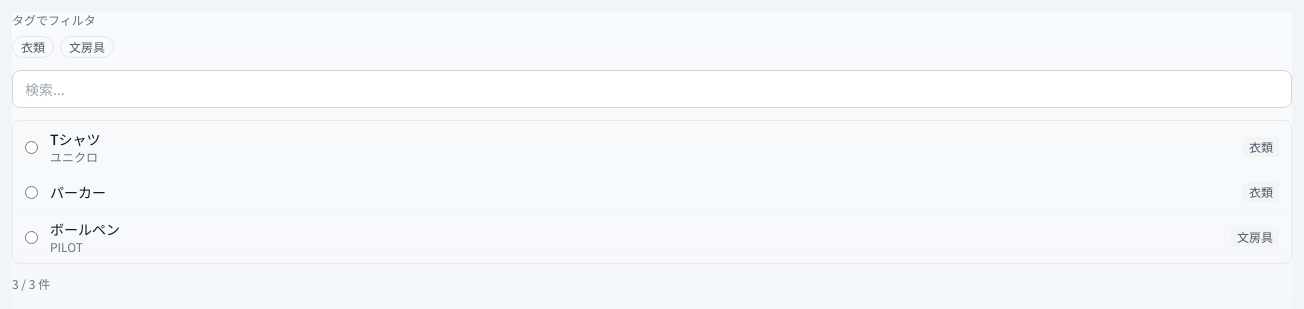
Test: ItemTypeSelector › should clear filters when clicking clear button
Note:  タグでフィルタ
Click the button "衣類".
click(33, 47)  # box 12,36 -> 54,58
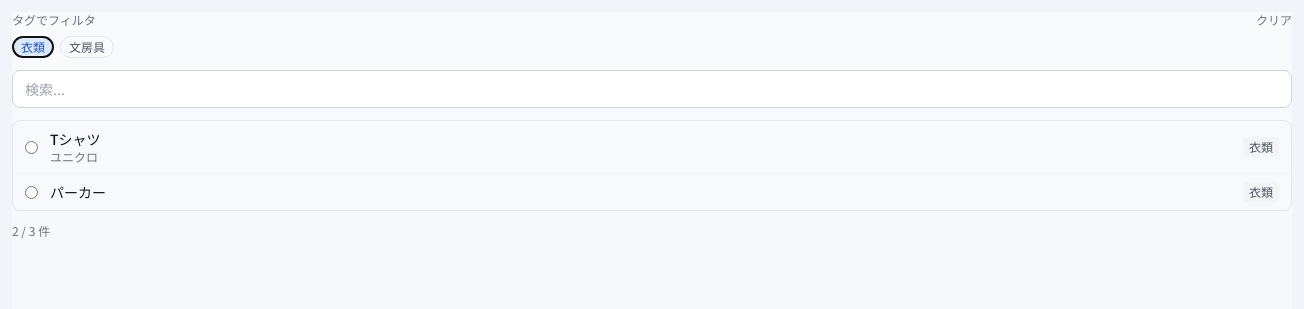
Result: the text "2 / 3 件" is shown at 12,222 -> 50,239
Note: クリアボタンをクリック
Click the button "クリア".
click(1274, 20)  # box 1256,12 -> 1292,28
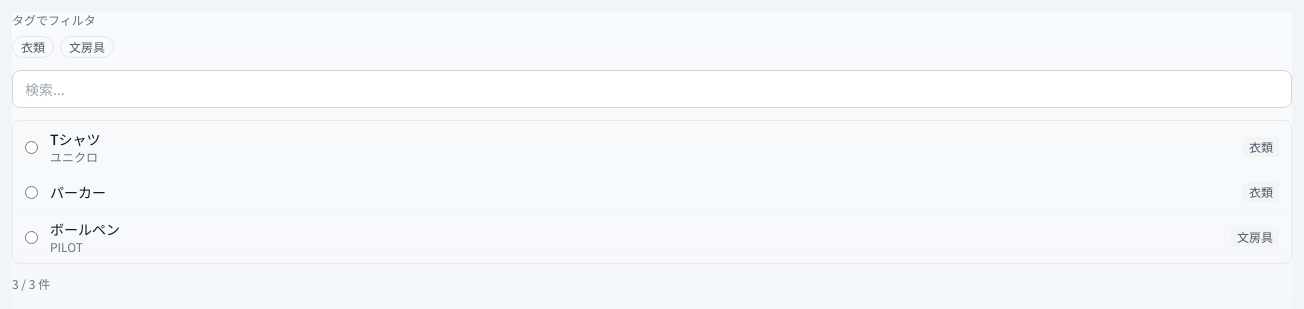
Result: the text "3 / 3 件" is shown at 12,275 -> 50,292
